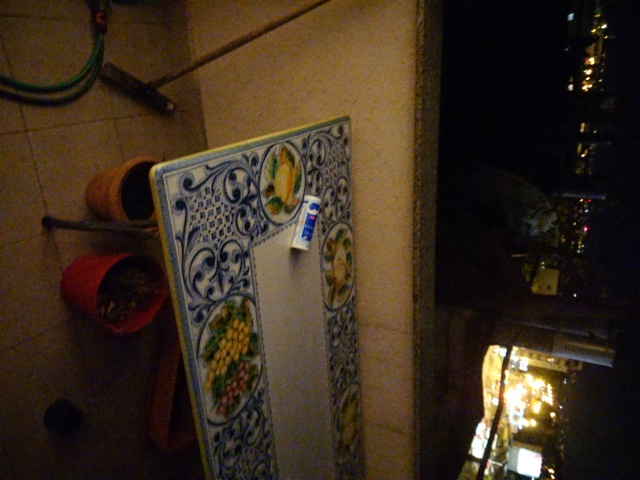Solana Pag Fine Sea Salt 250g: (287, 192, 324, 255)
